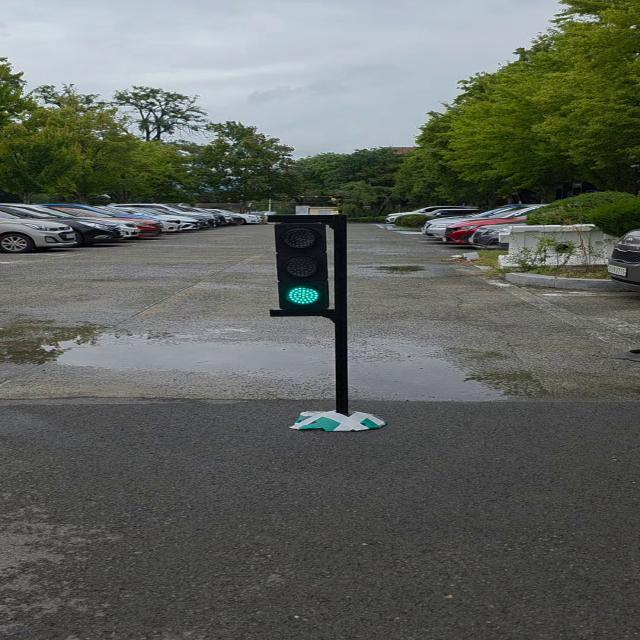green: (276, 217, 336, 315)
